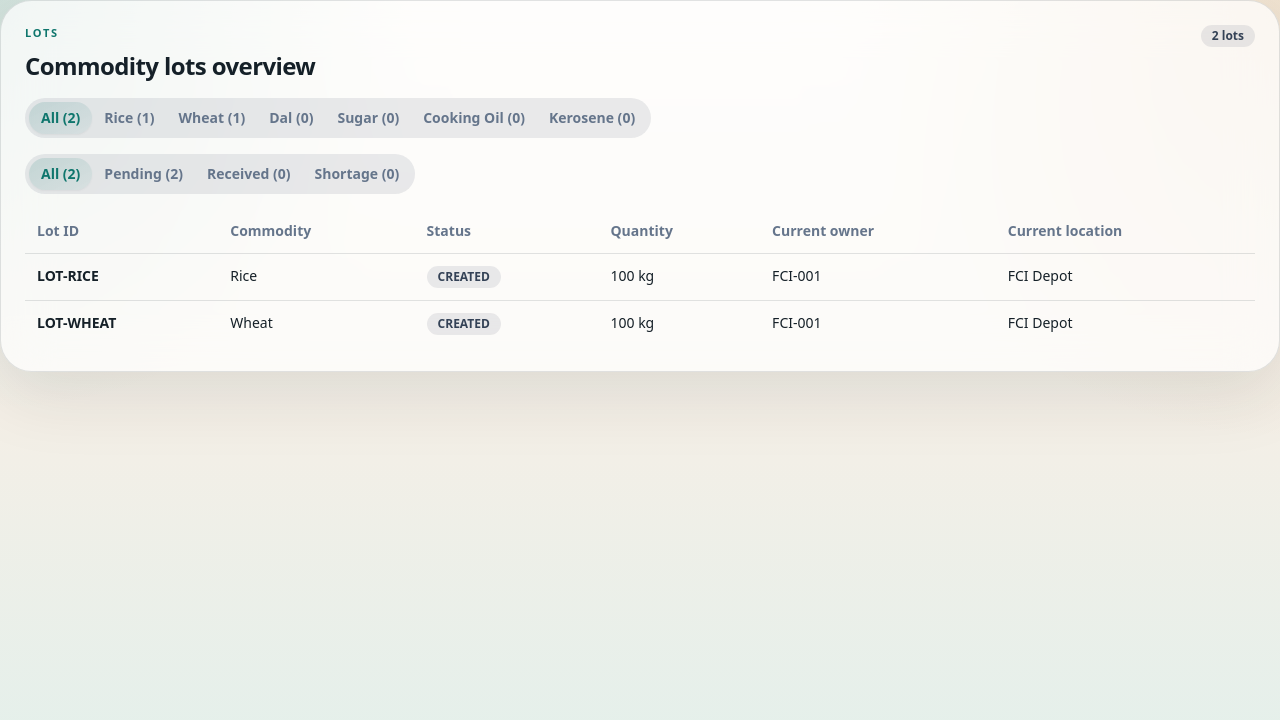
Test: LotsPanel › filters lots by commodity
Click the tab "Wheat (1)".
click(212, 118)  # box [166,102,257,134]
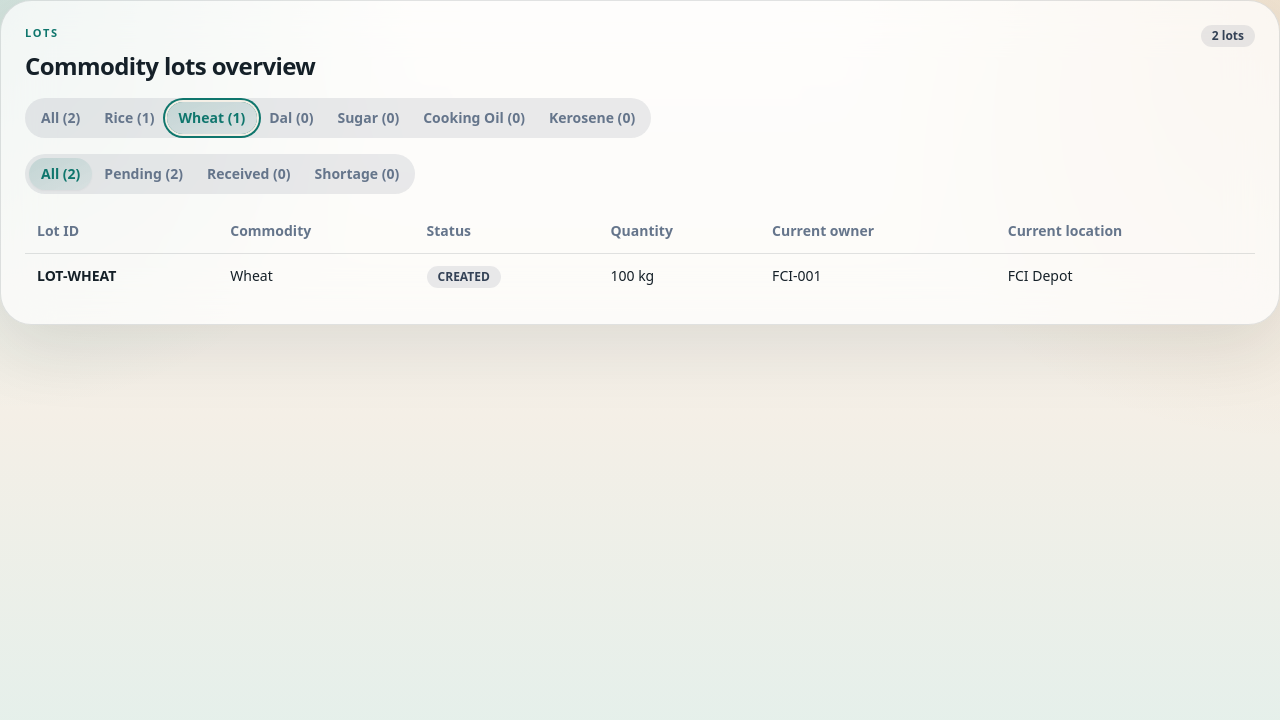
Check: the text "LOT-WHEAT" is shown, box [25,254,218,300]
Check: the text "LOT-RICE" is gone
